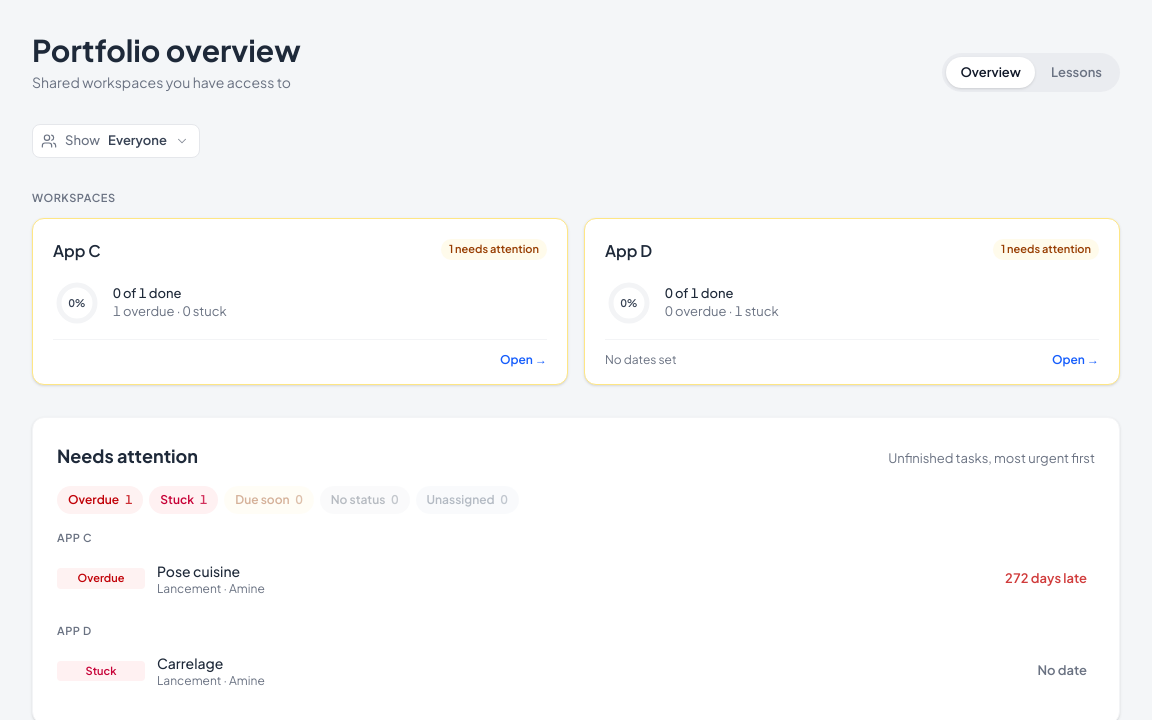
Test case: PortfolioOverview › apartment cards › narrows the attention list to the apartment clicked, and back
Step 1. Click the button with aria-label "Show what needs attention in App D" → (629, 250), box [585,219,1119,339]
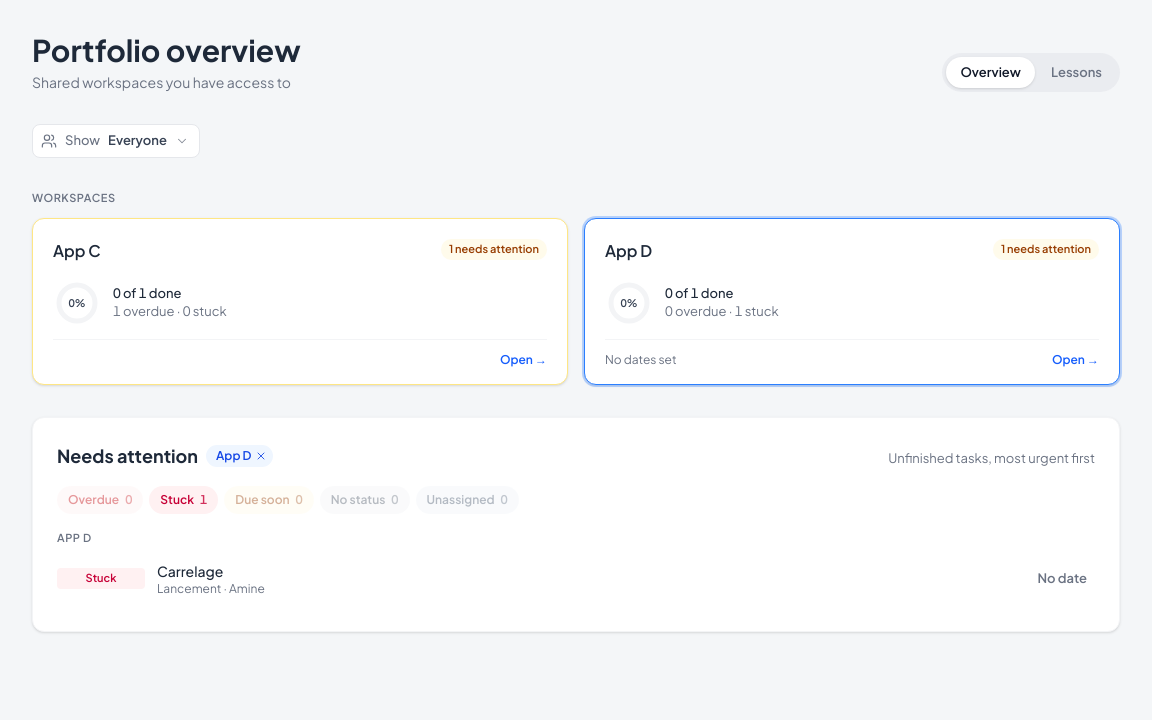
Expected: the text "Carrelage" is shown, [157,562,223,580]
Expected: the button "Pose cuisine" is gone
Expected: the button "Overdue 0" is disabled, [57,486,143,514]
Step 2. Click the button with aria-label "Stop showing only App D" → (240, 456), box [206,445,273,467]
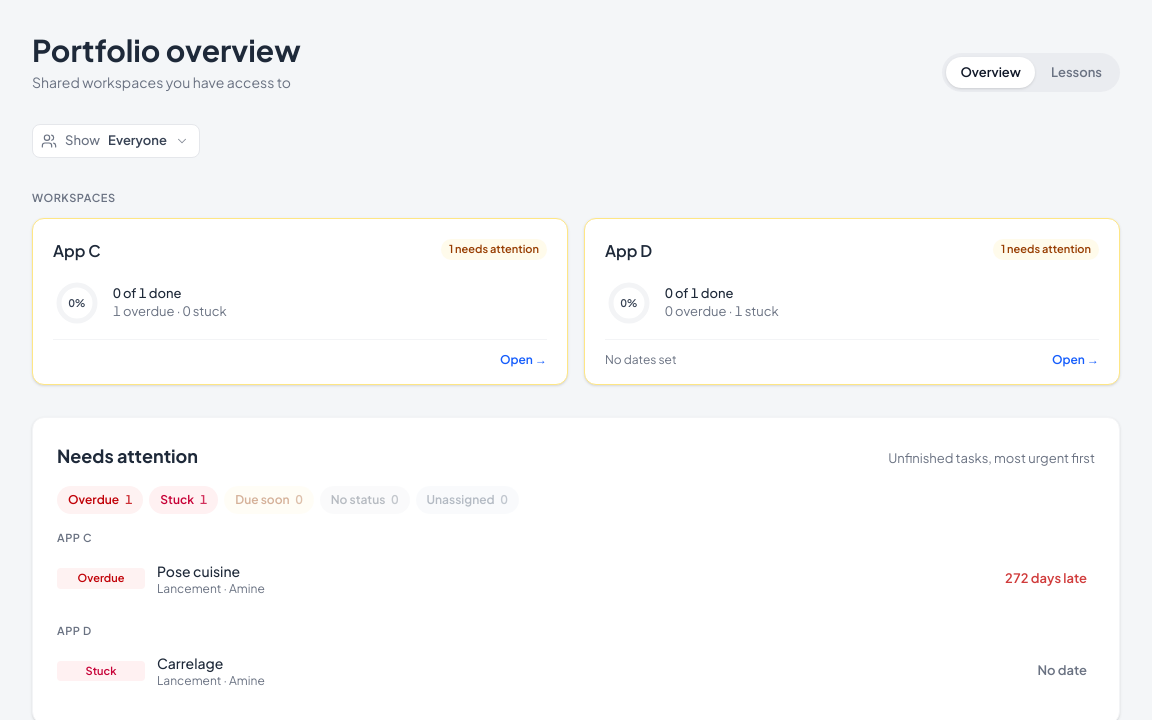
Expected: the text "Pose cuisine" is shown, [157,562,240,580]
